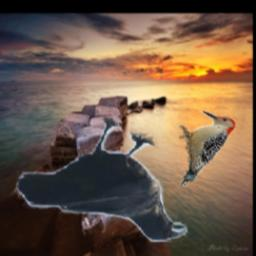Crow: (17, 119, 189, 243)
Woodpecker: (180, 109, 236, 187)
